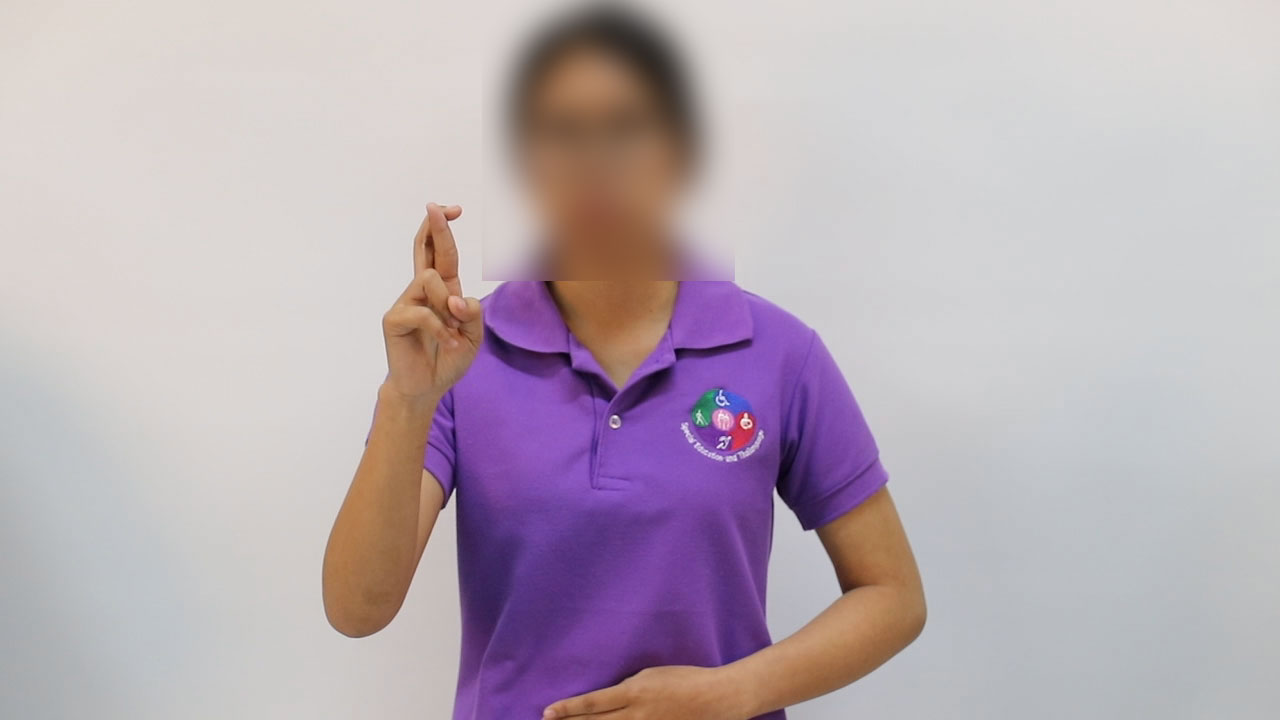rao: (355, 196, 487, 418)
